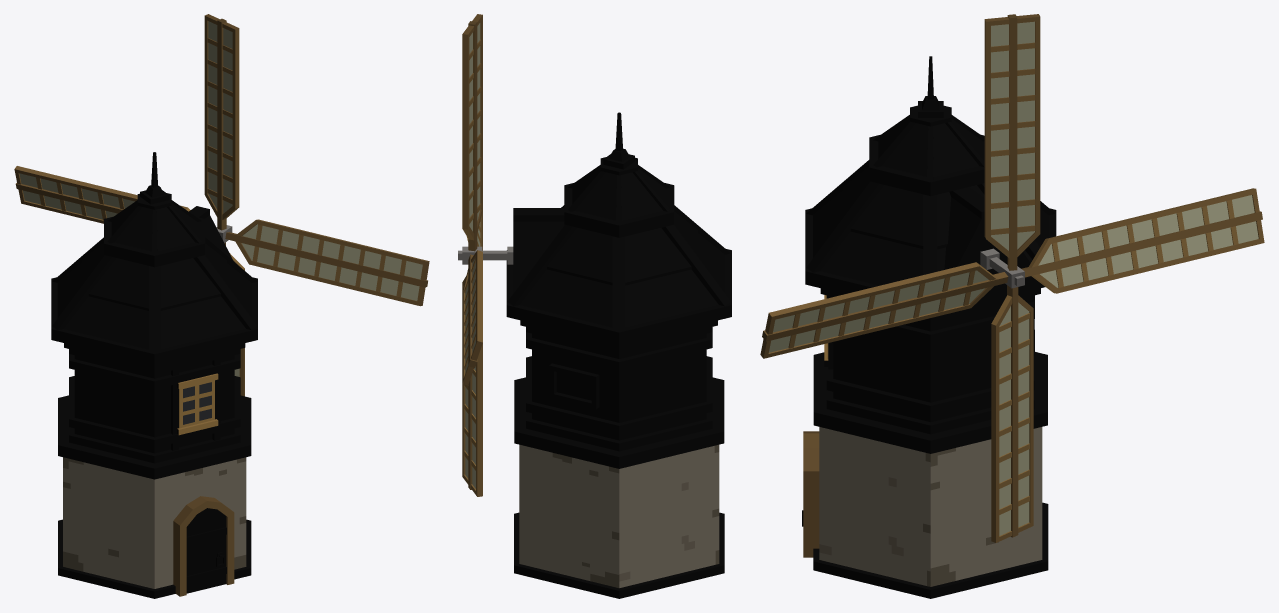
Rendered from House_Windmill.gltf.
3 views of the same model, side by side, from view 1: azimuth 30°, elevation 25°; view 2: azimuth 150°, elevation 25°; view 3: azimuth 270°, elevation 25° (orthographic). The views are drawn at different scales.
Parts seen in each view (by area): view 1: SF_Bld_House_Windmill_01, SF_Bld_HouseAdd_WindmillBlade_01; view 2: SF_Bld_House_Windmill_01, SF_Bld_HouseAdd_WindmillBlade_01; view 3: SF_Bld_House_Windmill_01, SF_Bld_HouseAdd_WindmillBlade_01.
Boxes of the visible parts, x1,y1,x2,y2 form: SF_Bld_House_Windmill_01: (51, 152, 257, 598); SF_Bld_HouseAdd_WindmillBlade_01: (14, 14, 429, 396); SF_Bld_House_Windmill_01: (506, 112, 731, 598); SF_Bld_HouseAdd_WindmillBlade_01: (458, 14, 513, 496); SF_Bld_House_Windmill_01: (802, 56, 1056, 598); SF_Bld_HouseAdd_WindmillBlade_01: (760, 14, 1264, 542).
Size of the model in its own units: 0.1522 by 0.2241 by 0.175.
1 material, 1 textured.
